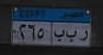2: (19, 23, 27, 41)
5: (36, 27, 45, 41)
6: (28, 23, 36, 42)
baa: (52, 27, 65, 42), (66, 28, 77, 42)
raa: (79, 29, 88, 42)
